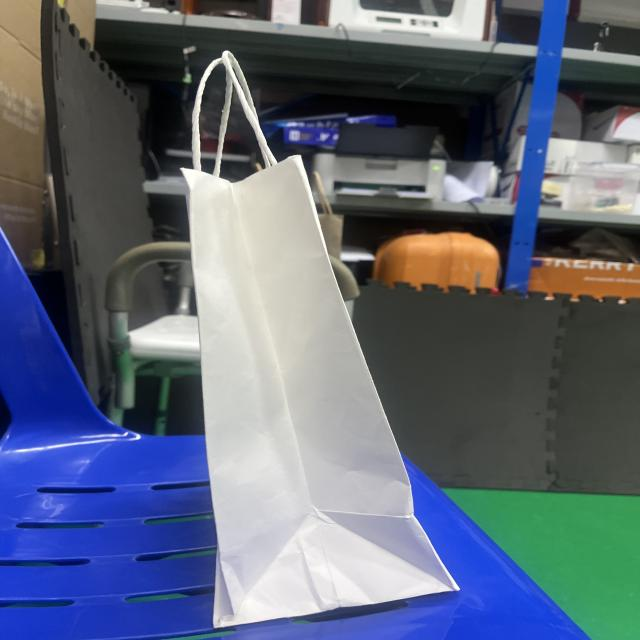paper bag: (138, 38, 486, 640)
